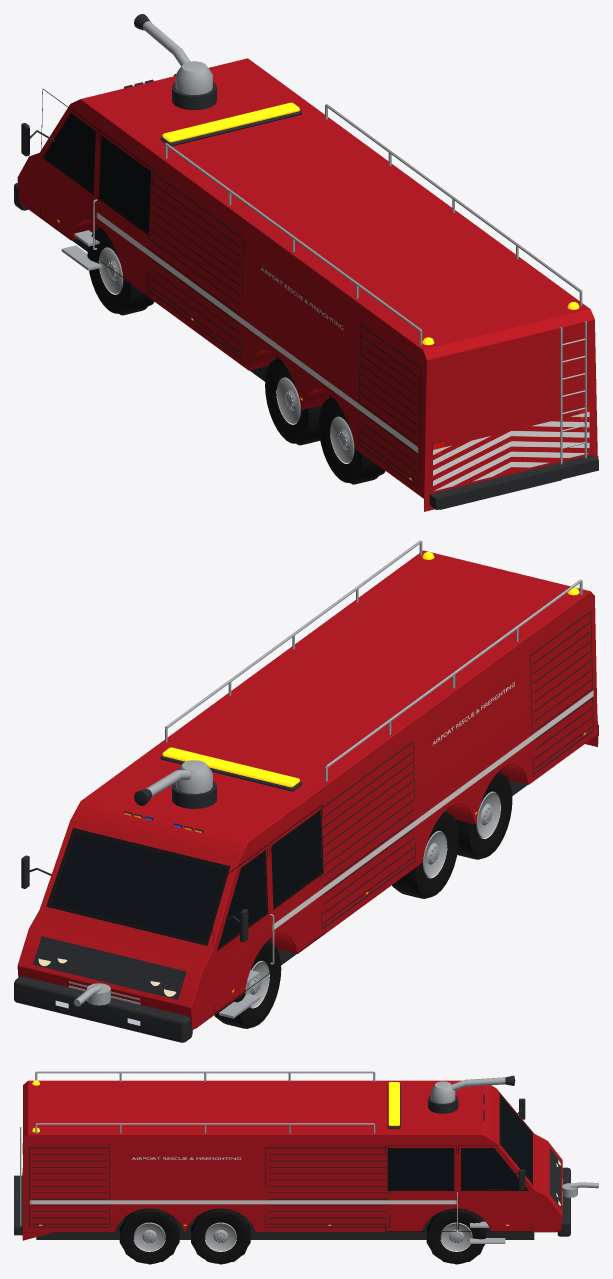
The model's file is arff_tender.glb.
3 views of the same model, one above another, from view 1: azimuth 30°, elevation 25°; view 2: azimuth 150°, elevation 25°; view 3: azimuth 270°, elevation 25° (orthographic). The views are drawn at different scales.
Visible parts, largest first — view 1: Body, Wheels; view 2: Body, Wheels; view 3: Body, Wheels.
Boxes of the visible parts, <box> form: Body: <box>14,14,598,511</box>; Wheels: <box>87,227,385,484</box>; Body: <box>14,540,598,1042</box>; Wheels: <box>214,771,512,1028</box>; Body: <box>14,1071,598,1243</box>; Wheels: <box>119,1208,486,1264</box>.
Size of what is drawn, in the model's own units: 3.85 by 4.1 by 13.15.
Materials: 8 (2 with a texture image).
